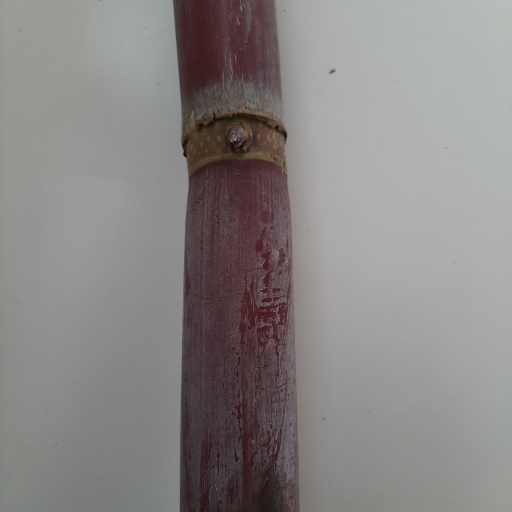Bud: (226, 119, 252, 156)
